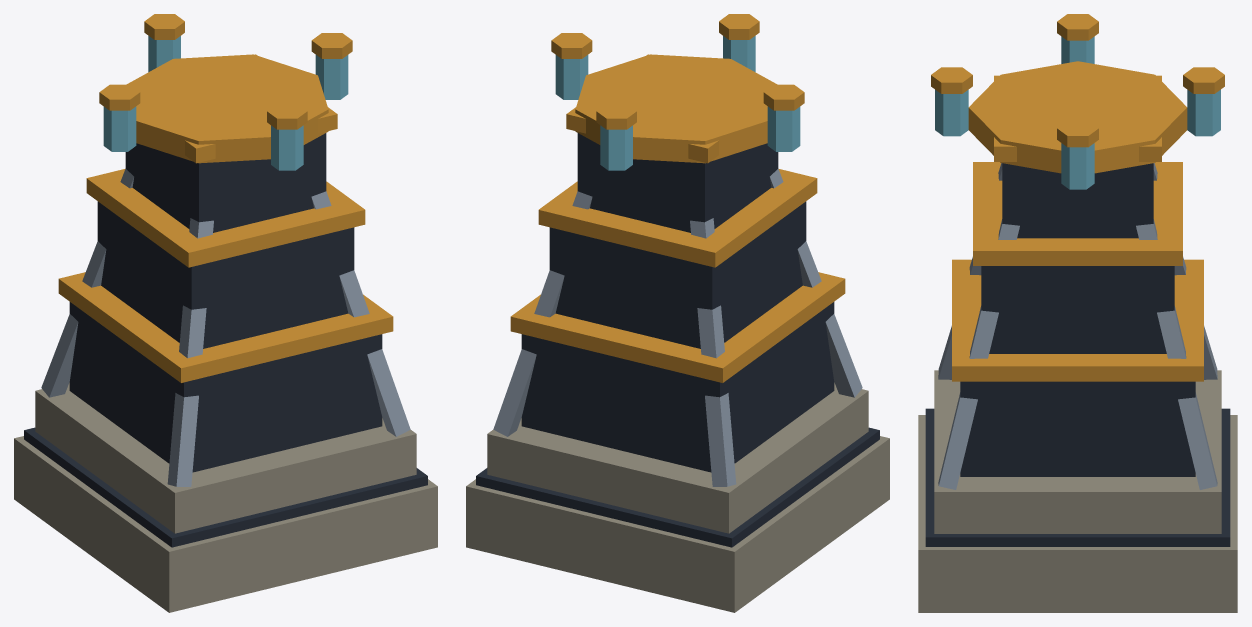
The model's file is TeslaBody.obj.
The picture shows the model from 3 angles, left to right: view 1: azimuth 30°, elevation 25°; view 2: azimuth 150°, elevation 25°; view 3: azimuth 270°, elevation 25°; orthographic projection. The views are drawn at different scales.
Parts seen in each view (by area): view 1: TeslaBody; view 2: TeslaBody; view 3: TeslaBody.
Boxes of the visible parts, x1,y1,x2,y2 form: TeslaBody: [14, 14, 437, 612]; TeslaBody: [466, 14, 889, 612]; TeslaBody: [918, 14, 1237, 612].
Size of the model in its own units: 0.76 by 1.24 by 0.76.
